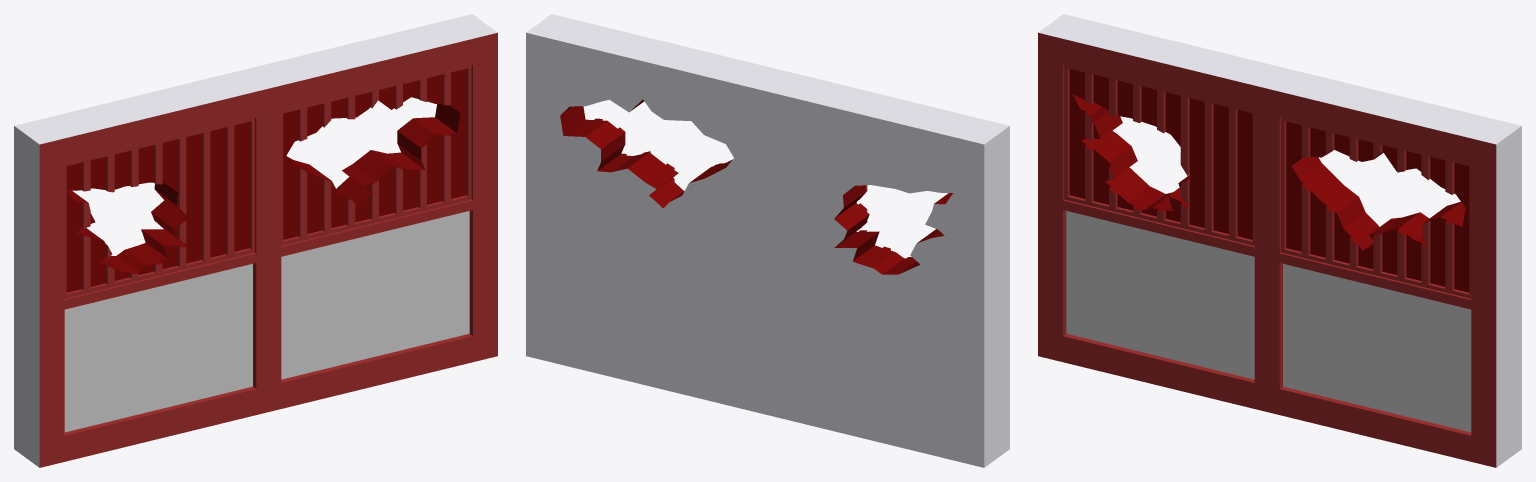
Rendered from Asian_Prop_Building_Modular_Wall_Slats_Damaged_01.FBX.
The picture shows the model from 3 angles, left to right: view 1: azimuth 30°, elevation 25°; view 2: azimuth 150°, elevation 25°; view 3: azimuth 330°, elevation 25°; orthographic projection.
Parts seen in each view (by area): view 1: Asian_Prop_Building_Modular_Wall_Slats_Damaged_01; view 2: Asian_Prop_Building_Modular_Wall_Slats_Damaged_01; view 3: Asian_Prop_Building_Modular_Wall_Slats_Damaged_01.
Boxes of the visible parts, x1,y1,x2,y2 form: Asian_Prop_Building_Modular_Wall_Slats_Damaged_01: [14, 14, 497, 467]; Asian_Prop_Building_Modular_Wall_Slats_Damaged_01: [526, 14, 1009, 467]; Asian_Prop_Building_Modular_Wall_Slats_Damaged_01: [1038, 14, 1521, 467].
Size of the model in its own units: 5167 by 3485 by 500.
